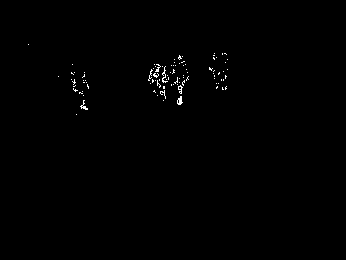person: (170, 54, 190, 106), (147, 61, 167, 101)
